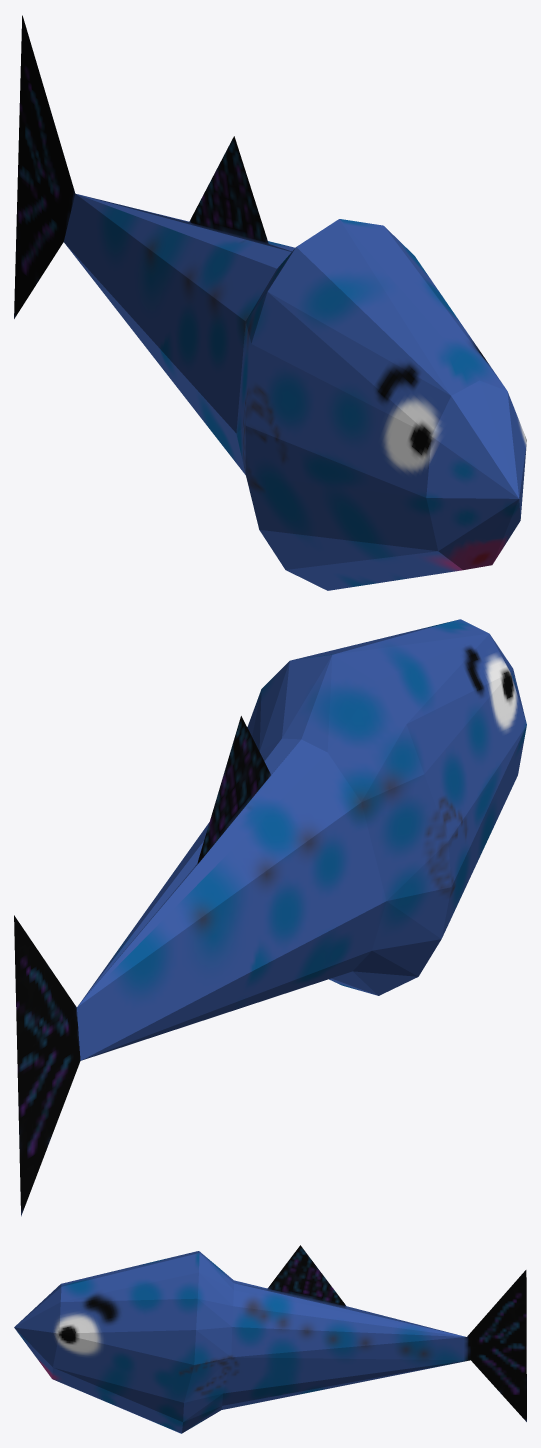
The model's file is fish.glb.
3 views of the same model, one above another, from view 1: azimuth 30°, elevation 25°; view 2: azimuth 150°, elevation 25°; view 3: azimuth 270°, elevation 25° (orthographic). The views are drawn at different scales.
Visible parts, largest first — view 1: Fish; view 2: Fish; view 3: Fish.
Part boxes in pixels (left/top/right/bottom): Fish: left=14, top=15, right=526, bottom=590; Fish: left=14, top=619, right=526, bottom=1216; Fish: left=14, top=1245, right=526, bottom=1433.
Size of the model in its own units: 0.2547 by 0.435 by 1.09.
1 material, 1 textured.
